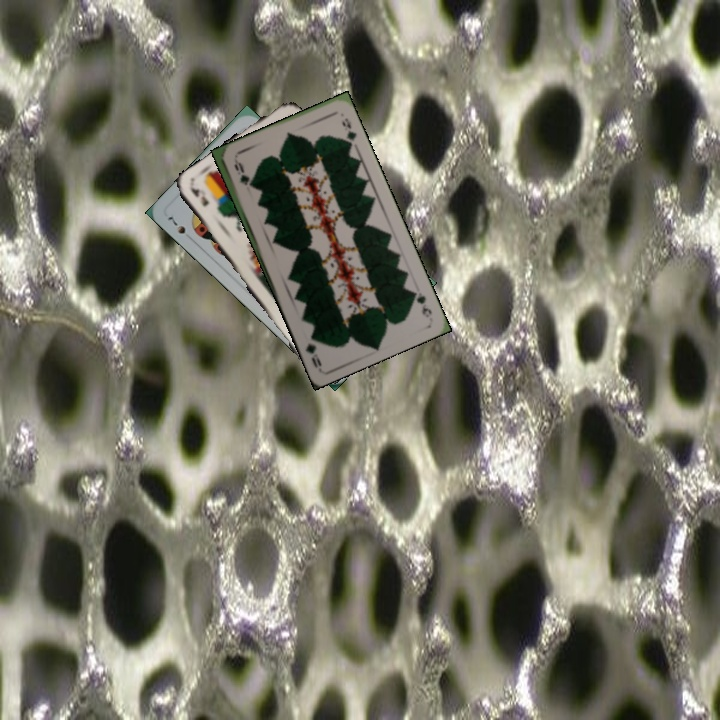EK: (187, 184, 211, 209)
G9: (407, 286, 434, 321), (230, 156, 250, 188)
S7: (163, 212, 188, 236)
